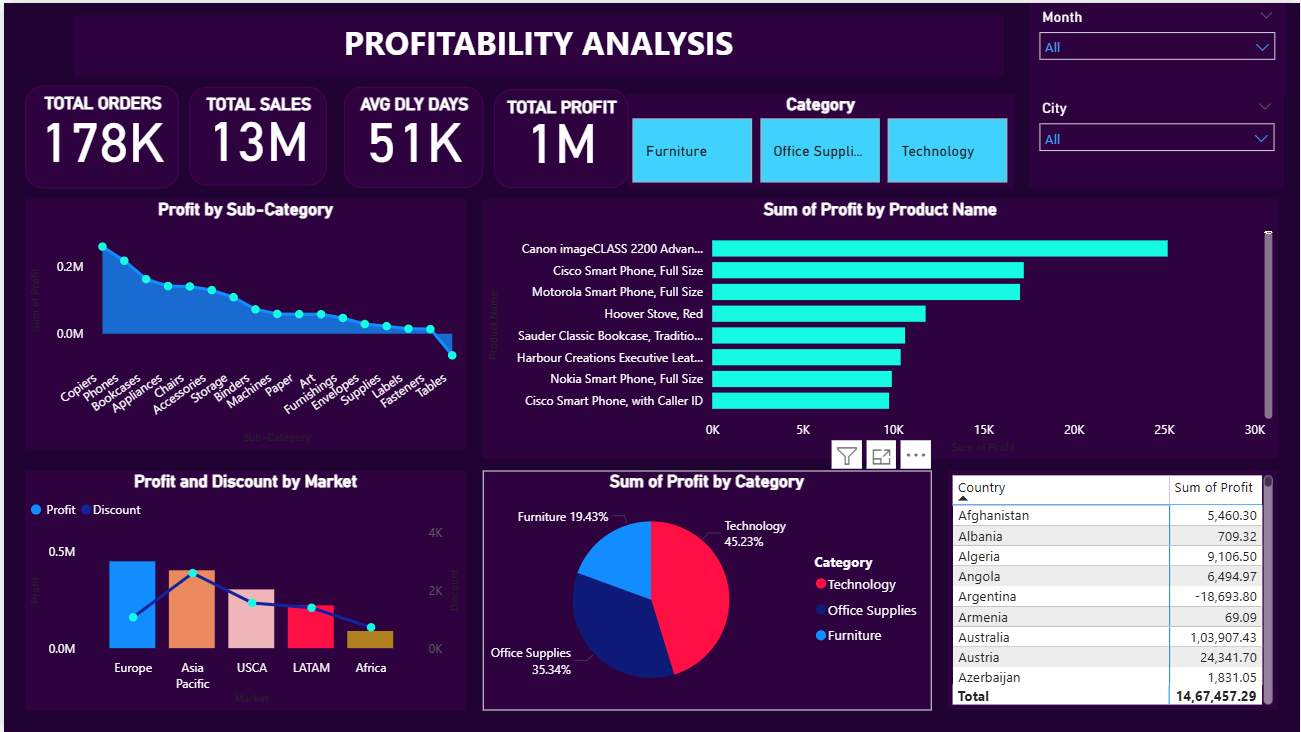

The page's visual inventory and layout, read from the dashboard file:
{"tool":"powerbi","page":{"name":"Profit","canvas":[1280,720],"ordinal":1},"visuals":[{"type":"areaChart","title":" Profit by Sub-Category","fields":{"Y":["Sum(Orders.Profit)"],"Category":["Orders.Sub-Category"]},"box":[20.5,194.2,435.5,246.1],"z":0},{"type":"lineStackedColumnComboChart","fields":{"Y":["Sum(Orders.Profit)"],"Category":["Orders.Market"],"Y2":["Sum(Orders.Discount)"]},"box":[20.5,462.1,435.5,236.5],"z":1000},{"type":"clusteredBarChart","fields":{"Y":["Sum(Orders.Profit)"],"Category":["Orders.Product Name"]},"box":[472.9,194.2,785.4,255.8],"z":2000},{"type":"pieChart","fields":{"Category":["Orders.Category"],"Y":["Sum(Orders.Profit)"]},"box":[472.9,462.1,442.8,236.5],"z":3000},{"type":"textbox","box":[68.8,12.1,918.1,60.3],"z":4000},{"type":"card","title":"TOTAL PROFIT","fields":{"Values":["Sum(Orders.Profit)"]},"box":[483.8,85.7,132.7,97.7],"z":5000},{"type":"card","title":"AVG DLY DAYS","fields":{"Values":["CountNonNull(Orders.AVG Delivery Days)"]},"box":[335.4,83.2,137.5,100.1],"z":6000},{"type":"card","title":"TOTAL ORDERS","fields":{"Values":["Sum(Orders.Quantity)"]},"box":[20.5,82,152,101.3],"z":7000},{"type":"pivotTable","fields":{"Rows":["Orders.Country"],"Values":["Sum(Orders.Profit)"]},"box":[932.6,462.1,325.7,236.5],"z":8000},{"type":"slicer","fields":{"Values":["Orders.Order Date.Variation.Date Hierarchy.Month"]},"box":[1012.2,0,253.4,90.5],"z":9000},{"type":"slicer","fields":{"Values":["Orders.City"]},"box":[1012.2,90.5,252.1,91.7],"z":10000},{"type":"advancedSlicerVisual","fields":{"Values":["Orders.Category"]},"box":[616.5,90.5,381.2,92.9],"z":11000},{"type":"card","title":"TOTAL SALES","fields":{"Values":["Sum(Orders.Sales)"]},"box":[182.2,83.2,136.3,97.7],"z":12000}]}

Visuals, with their boxes in screenshot pixels (x1, y1, x2, y2), scaled from the page's 1280x720 canvas onto the 1301x732 screenshot:
" Profit by Sub-Category" areaChart: bbox=(21, 197, 463, 448)
lineStackedColumnComboChart - Sum(Orders.Profit) x Orders.Market: bbox=(21, 470, 463, 710)
clusteredBarChart - Sum(Orders.Profit) x Orders.Product Name: bbox=(481, 197, 1279, 458)
pieChart - Orders.Category x Sum(Orders.Profit): bbox=(481, 470, 931, 710)
textbox: bbox=(70, 12, 1003, 74)
"TOTAL PROFIT" card: bbox=(492, 87, 627, 186)
"AVG DLY DAYS" card: bbox=(341, 85, 481, 186)
"TOTAL ORDERS" card: bbox=(21, 83, 175, 186)
pivotTable - Orders.Country x Sum(Orders.Profit): bbox=(948, 470, 1279, 710)
slicer - Orders.Order Date.Variation.Date Hierarchy.Month: bbox=(1029, 0, 1286, 92)
slicer - Orders.City: bbox=(1029, 92, 1285, 185)
advancedSlicerVisual - Orders.Category: bbox=(627, 92, 1014, 186)
"TOTAL SALES" card: bbox=(185, 85, 324, 184)
